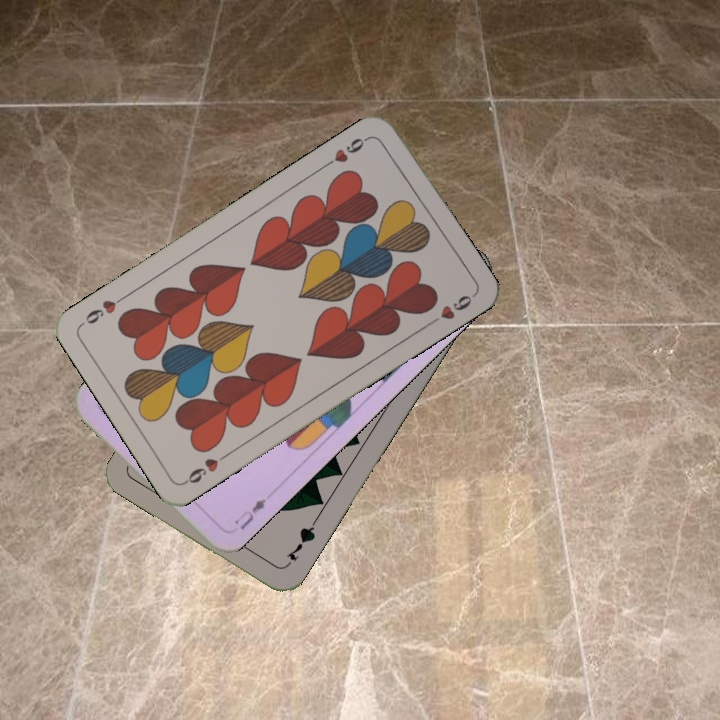EU: (230, 494, 269, 533)
G7: (281, 516, 319, 569)
H9: (180, 448, 232, 487), (320, 132, 373, 170)
